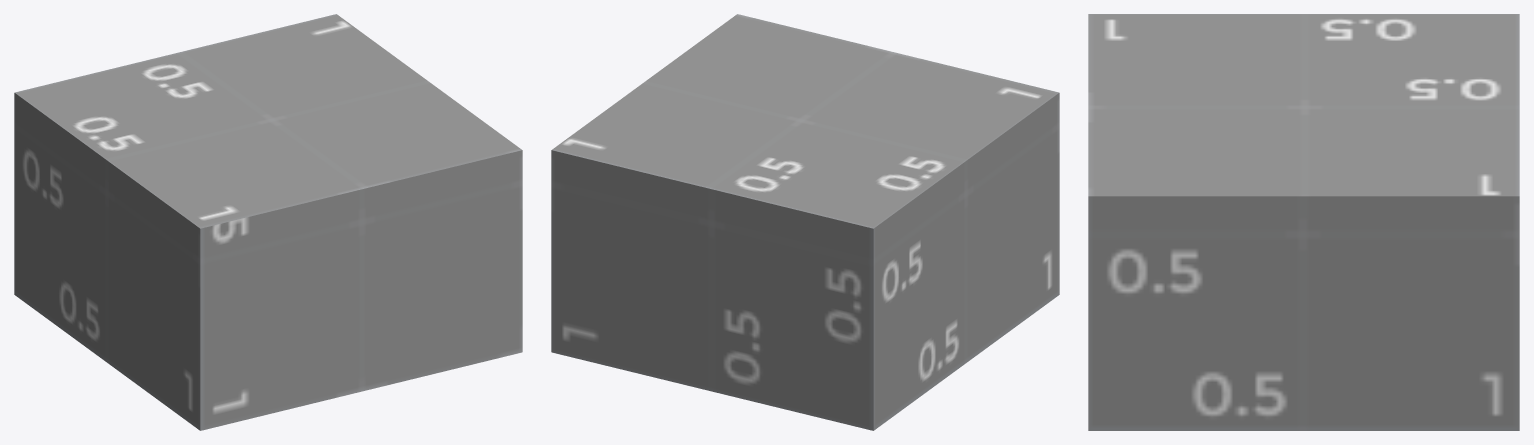
3 views of the same model, side by side, from view 1: azimuth 30°, elevation 25°; view 2: azimuth 150°, elevation 25°; view 3: azimuth 270°, elevation 25° (orthographic). The views are drawn at different scales.
Parts seen in each view (by area): view 1: Cube_1_6; view 2: Cube_1_6; view 3: Cube_1_6.
Part boxes in pixels (x1=…): Cube_1_6: x1=14, y1=14, x2=522, y2=430; Cube_1_6: x1=551, y1=14, x2=1059, y2=430; Cube_1_6: x1=1088, y1=14, x2=1519, y2=430.
Bounding box in the file's own units: 1 × 0.6 × 1.
